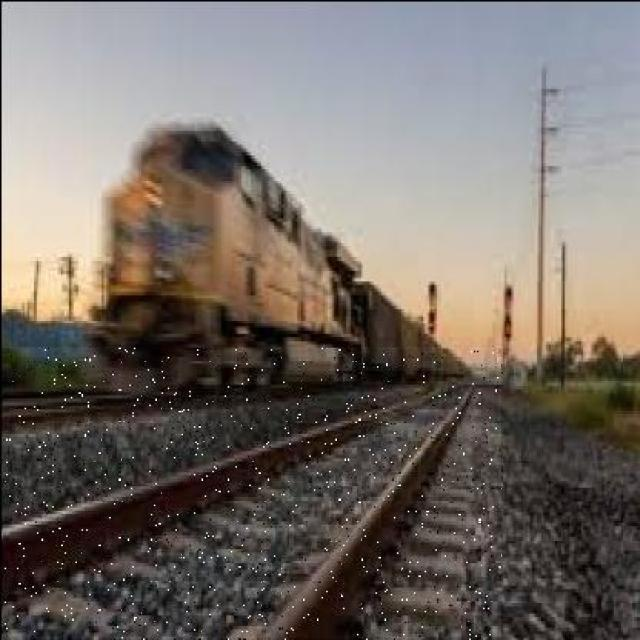rail: (4, 349, 502, 639)
